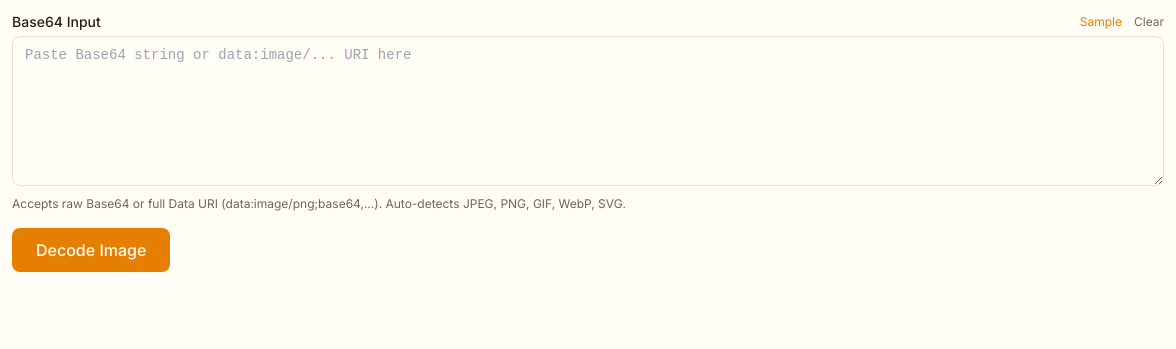
Base64ToImage › shows error for empty input
Step 1. Click the button "Decode Image" → (91, 250), box [12, 228, 170, 272]
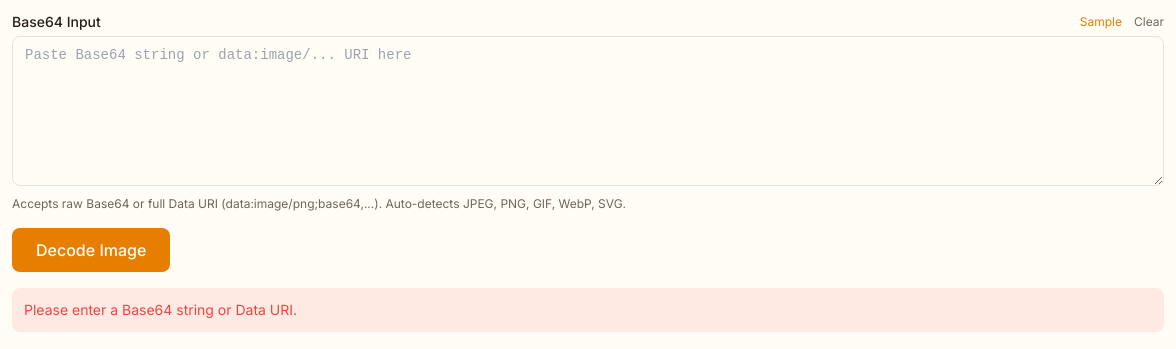
Expected: the text "Please enter a Base64 string or Data URI." is shown, [12, 288, 1164, 332]
